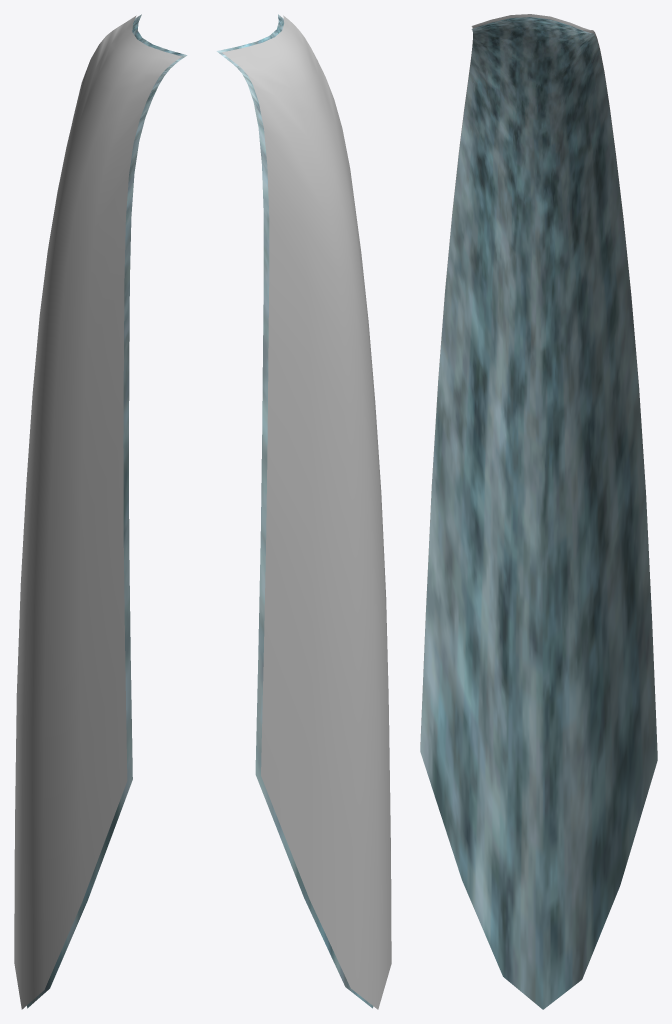
File: SWORDLIGHT20_WATERFALLTOPIN.obj
The picture shows the model from 3 angles, left to right: view 1: azimuth 30°, elevation 25°; view 2: azimuth 150°, elevation 25°; view 3: azimuth 270°, elevation 25°; orthographic projection. The views are drawn at different scales.
Parts seen in each view (by area): view 1: WaterfallTopIn; view 2: WaterfallTopIn; view 3: WaterfallTopIn.
Part boxes in pixels (x1,y1,x2,y2): WaterfallTopIn: (14,14,187,1009); WaterfallTopIn: (216,14,391,1009); WaterfallTopIn: (420,14,657,1009).
Bounding box in the file's own units: 863 × 5524 × 1130.
